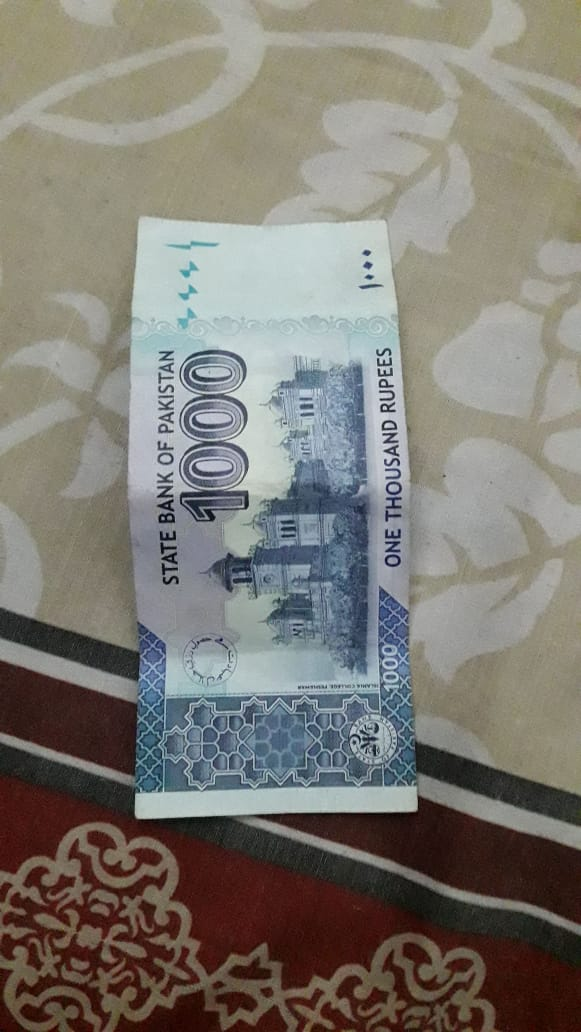1000 rupee: (119, 193, 429, 834)
